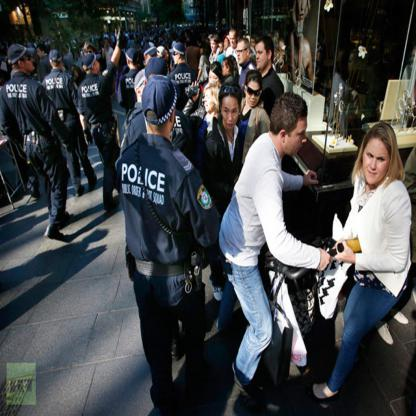face: (364, 135, 391, 187), (288, 112, 309, 159), (221, 97, 240, 131), (248, 80, 262, 109), (256, 42, 268, 70), (22, 52, 36, 71), (204, 93, 216, 113), (238, 42, 246, 66), (297, 3, 307, 22), (209, 71, 218, 89), (230, 32, 238, 49), (172, 52, 180, 66), (149, 54, 159, 65), (222, 61, 228, 77), (95, 60, 102, 73), (85, 50, 95, 58), (224, 38, 230, 51), (36, 49, 43, 60), (212, 39, 217, 54), (218, 43, 224, 53), (165, 51, 170, 62), (73, 70, 79, 78), (106, 39, 110, 47), (200, 48, 204, 56)
